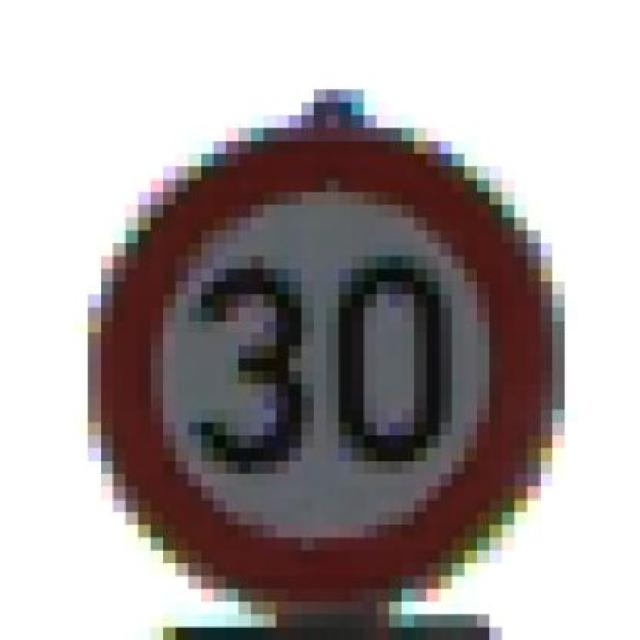Speed Limit 30 KMPh: (62, 26, 602, 614)
